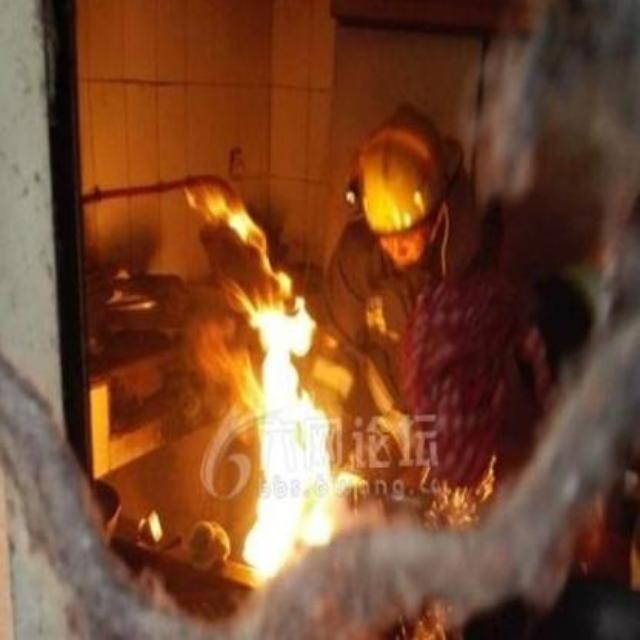Fire: (181, 186, 347, 576)
